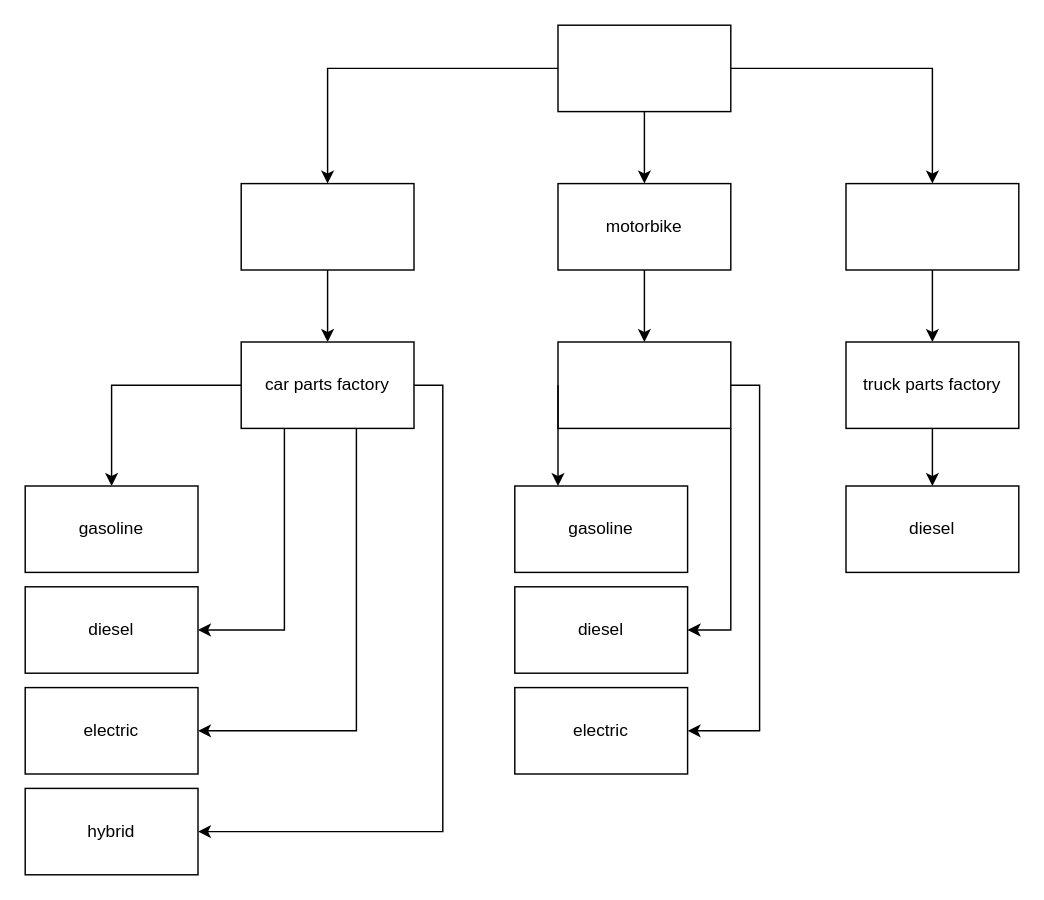
The diagram is 1044 pixels wide and 900 high, and some of its shapes have lost their labels. Each missing label, with the centre of its shape:
"car" goes at [327,226].
"motorbike parts factory" goes at [644,384].
"truck" goes at [932,226].
"vehicle" goes at [644,68].
